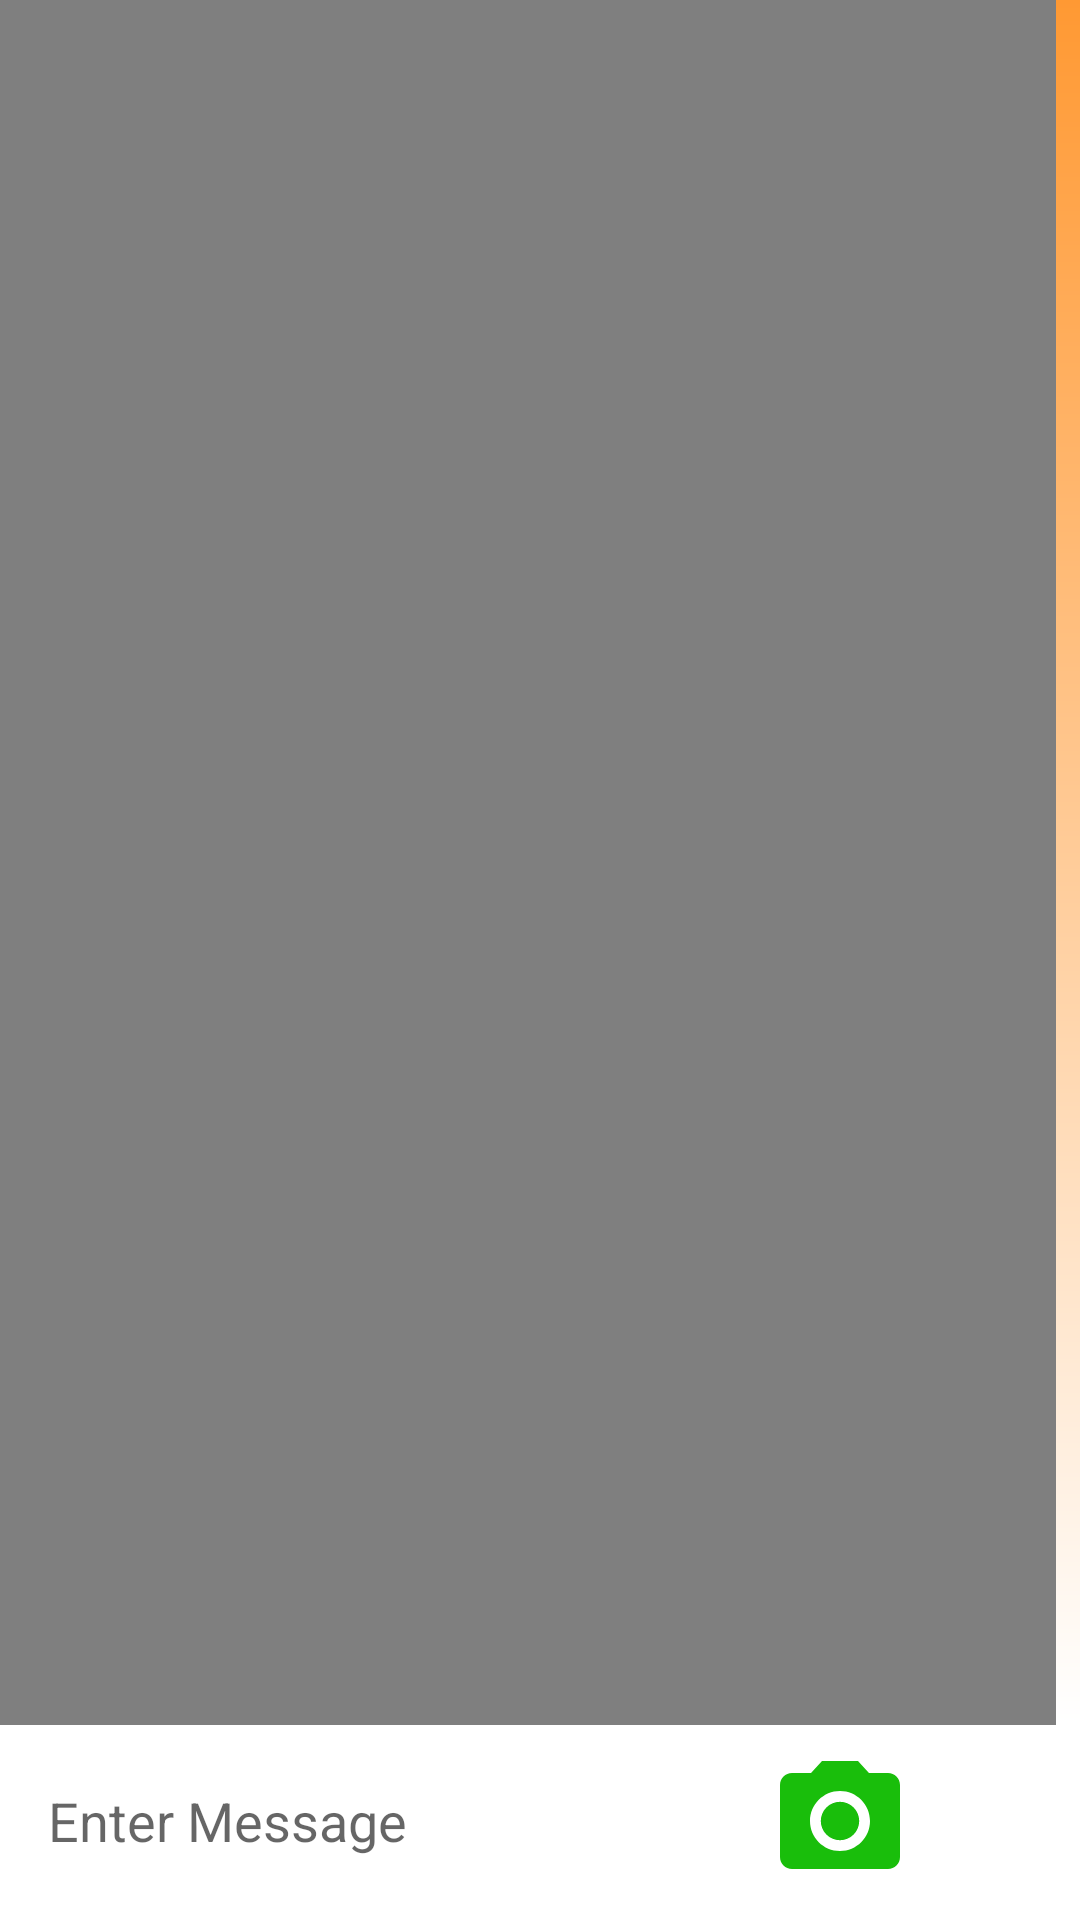

Icon click points for this 1080*1920 phone screenshot, format point (x, y):
camera: point (840, 1815)
